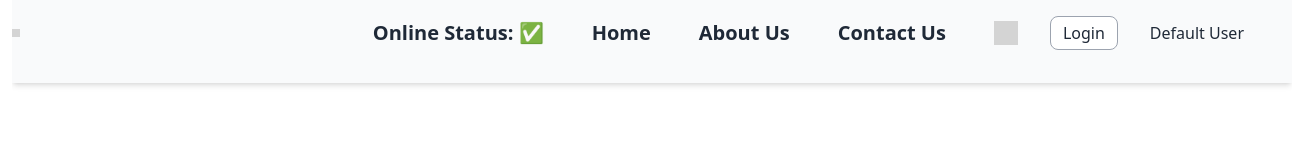
Header Component Tests › Should change Login Button to Logout on click
Step 1. Click the button "Login" → (1084, 33), box [1050,16,1118,50]
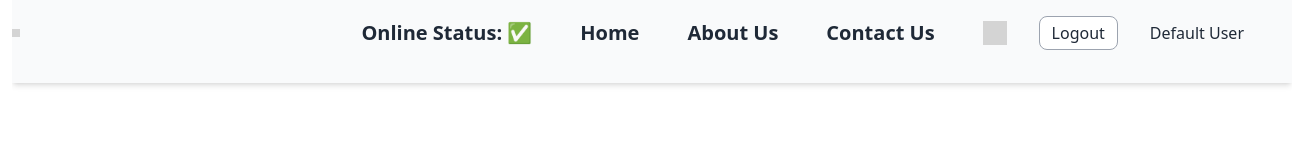
Expected: the button "Logout" is shown, [1039,16,1118,50]
